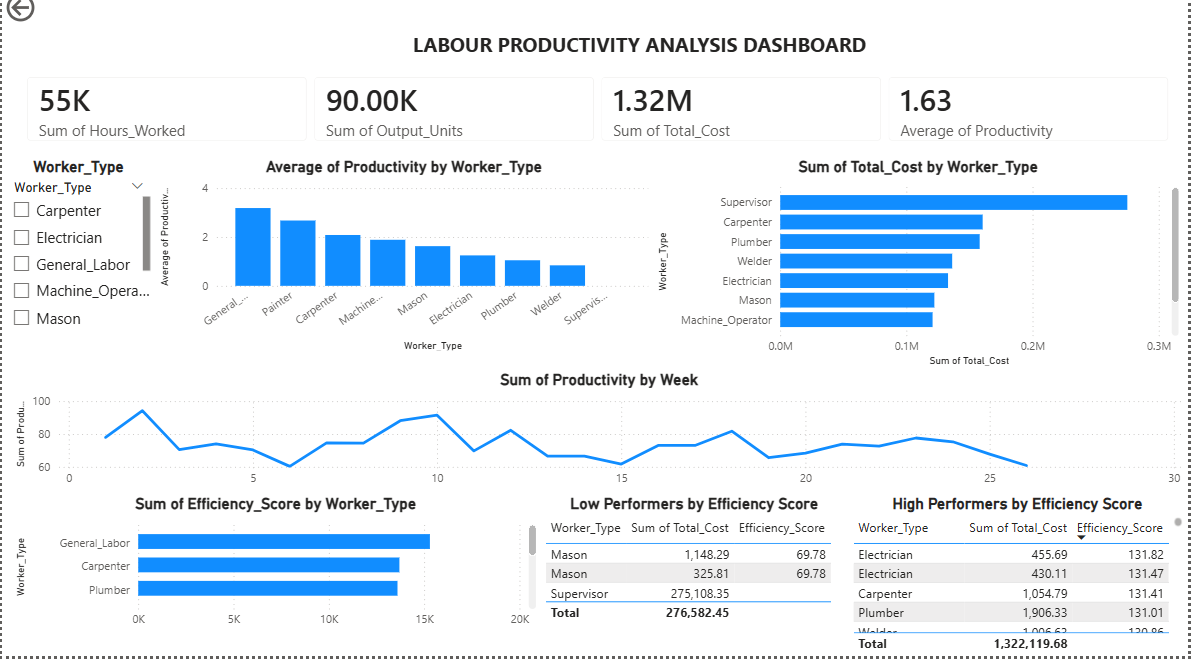

What the dashboard file says about the page in this screenshot:
{"tool":"powerbi","page":{"name":"Page 1","canvas":[1280,720],"ordinal":0},"visuals":[{"type":"cardVisual","fields":{"Data":["Sum(labour_data_with_metrics.Hours_Worked)","Sum(labour_data_with_metrics.Output_Units)","Sum(labour_data_with_metrics.Total_Cost)","Avg(labour_data_with_metrics.Productivity)"]},"box":[9.4,77.5,1269.9,103.9],"z":0},{"type":"clusteredColumnChart","fields":{"Category":["labour_data_with_metrics.Worker_Type"],"Y":["Avg(labour_data_with_metrics.Productivity)"]},"box":[165.2,181.4,537.6,213.7],"z":1000},{"type":"barChart","fields":{"Category":["labour_data_with_metrics.Worker_Type"],"Y":["Sum(labour_data_with_metrics.Total_Cost)"]},"box":[703,181.4,572.6,230.6],"z":2000},{"type":"lineChart","fields":{"Category":["labour_data_with_metrics.Week"],"Y":["Sum(labour_data_with_metrics.Productivity)"]},"box":[9.4,412,1269.9,134.2],"z":3000},{"type":"barChart","fields":{"Category":["labour_data_with_metrics.Worker_Type"],"Y":["Sum(labour_data_with_metrics.Efficiency_Score)"]},"box":[9.7,545.7,571.6,152.2],"z":4000},{"type":"tableEx","title":"Low Performers by Efficiency Score","fields":{"Values":["labour_data_with_metrics.Worker_Type","Sum(labour_data_with_metrics.Total_Cost)","labour_data_with_metrics.Efficiency_Score"]},"box":[581.3,545.7,331.9,174.9],"z":5000},{"type":"actionButton","box":[0,0,100,40],"z":6000},{"type":"tableEx","title":"High Performers by Efficiency Score","fields":{"Values":["labour_data_with_metrics.Worker_Type","Sum(labour_data_with_metrics.Total_Cost)","labour_data_with_metrics.Efficiency_Score"]},"box":[913.2,545.7,365.9,174.9],"z":7000},{"type":"slicer","title":"Worker_Type","fields":{"Values":["labour_data_with_metrics.Worker_Type"]},"box":[0,181.4,165.2,192.7],"z":8000},{"type":"textbox","box":[100.2,20.8,1175.4,56.7],"z":9000}]}

Visuals, with their boxes on the page's 1280x720 design canvas (x1, y1, x2, y2). These are canvas units, not pixel positions in the 1192x660 screenshot, which may show the page scaled, cropped or inside an application window:
cardVisual - Sum(labour_data_with_metrics.Hours_Worked) x Sum(labour_data_with_metrics.Output_Units): crop(9, 78, 1279, 181)
clusteredColumnChart - labour_data_with_metrics.Worker_Type x Avg(labour_data_with_metrics.Productivity): crop(165, 181, 703, 395)
barChart - labour_data_with_metrics.Worker_Type x Sum(labour_data_with_metrics.Total_Cost): crop(703, 181, 1276, 412)
lineChart - labour_data_with_metrics.Week x Sum(labour_data_with_metrics.Productivity): crop(9, 412, 1279, 546)
barChart - labour_data_with_metrics.Worker_Type x Sum(labour_data_with_metrics.Efficiency_Score): crop(10, 546, 581, 698)
"Low Performers by Efficiency Score" tableEx: crop(581, 546, 913, 721)
actionButton: crop(0, 0, 100, 40)
"High Performers by Efficiency Score" tableEx: crop(913, 546, 1279, 721)
"Worker_Type" slicer: crop(0, 181, 165, 374)
textbox: crop(100, 21, 1276, 78)
